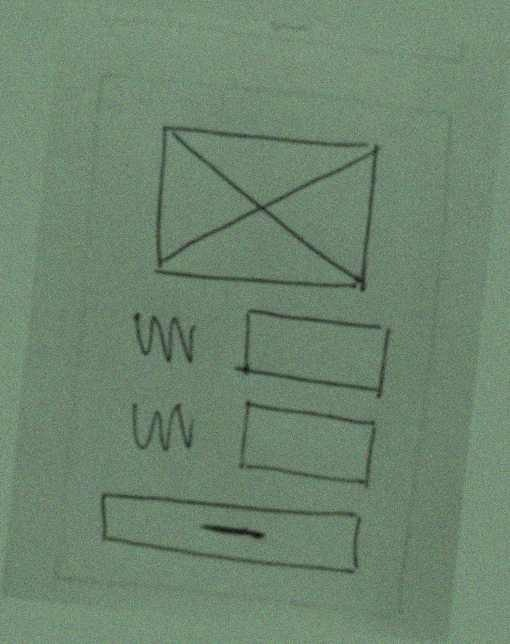button: (80, 476, 382, 586)
image: (137, 116, 394, 307)
text: (115, 395, 218, 464), (116, 306, 214, 364)
text_input: (232, 301, 399, 404), (225, 397, 389, 499)
